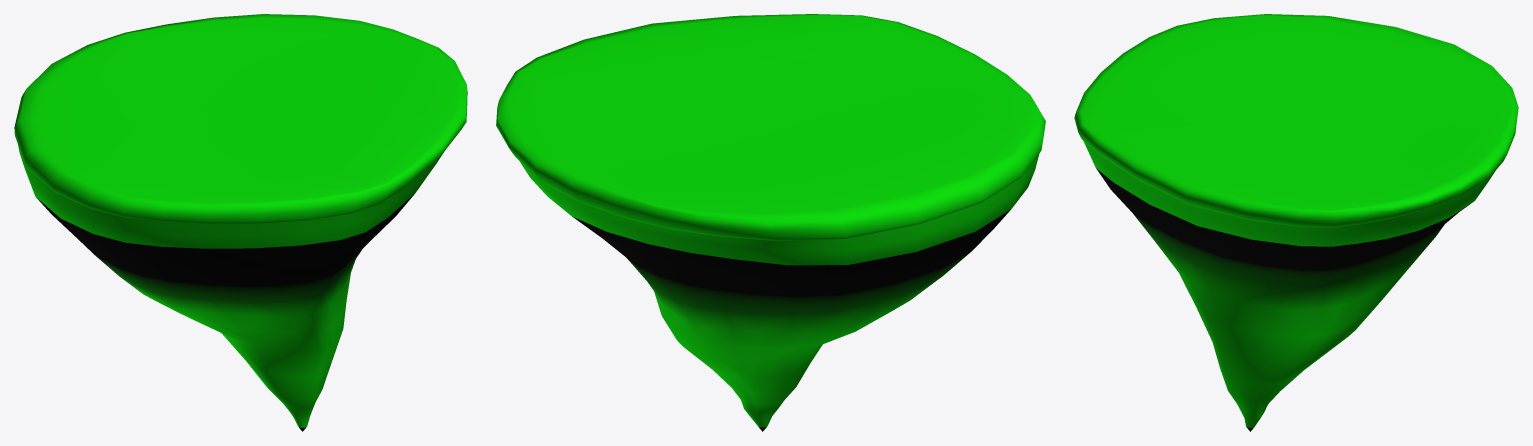
File: 3rd island.fbx
3 views of the same model, side by side, from view 1: azimuth 30°, elevation 25°; view 2: azimuth 150°, elevation 25°; view 3: azimuth 270°, elevation 25° (orthographic). The views are drawn at different scales.
Visible parts, largest first — view 1: polySurface4; view 2: polySurface4; view 3: polySurface4.
Part boxes in pixels (box(x1,y1,x2,y2)): polySurface4: box(14, 14, 467, 431); polySurface4: box(496, 14, 1045, 431); polySurface4: box(1074, 14, 1518, 431).
Bounding box in the file's own units: 74.92 × 53.25 × 69.77.
